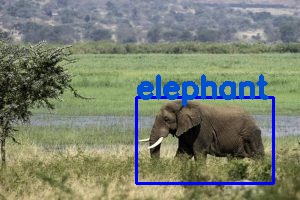elephant: (136, 97, 273, 183)
